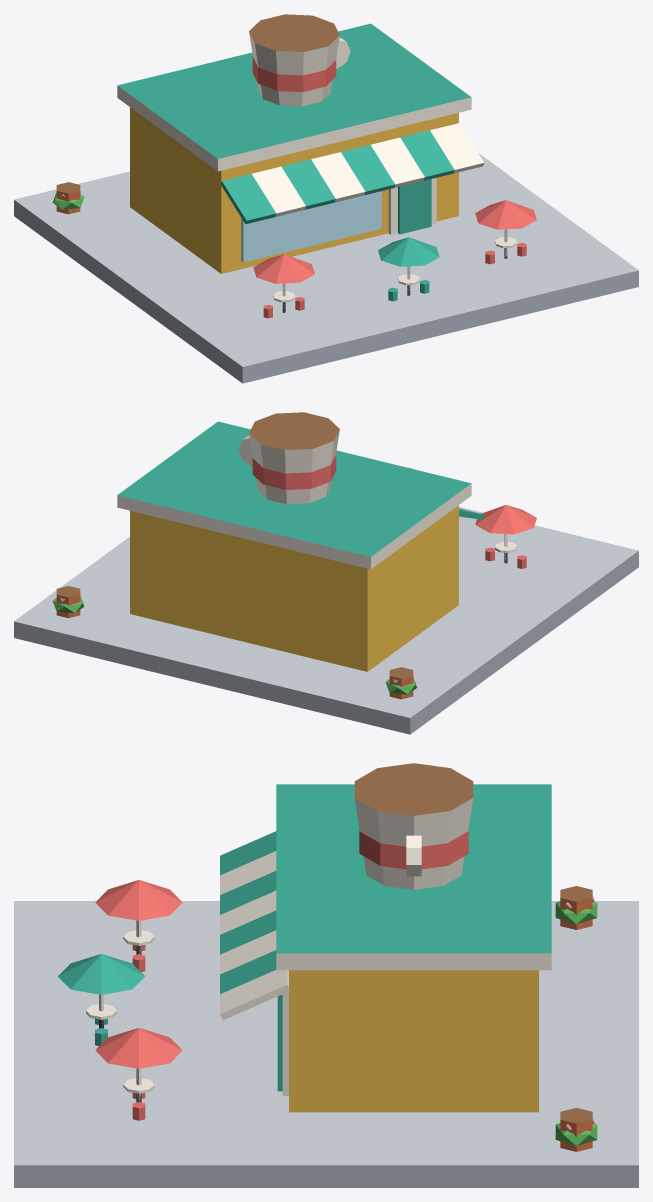
Rendered from shop_cafe.glb.
3 renders of one model, top to bottom at view 1: azimuth 30°, elevation 25°; view 2: azimuth 150°, elevation 25°; view 3: azimuth 270°, elevation 25°, orthographic. The views are drawn at different scales.
Visible parts, largest first — view 1: shop_cafe; view 2: shop_cafe; view 3: shop_cafe.
Boxes of the visible parts, x1,y1,x2,y2 form: shop_cafe: (14, 14, 638, 383); shop_cafe: (14, 412, 638, 734); shop_cafe: (14, 763, 638, 1187).
Bounding box in the file's own units: 1 × 0.47 × 1.
